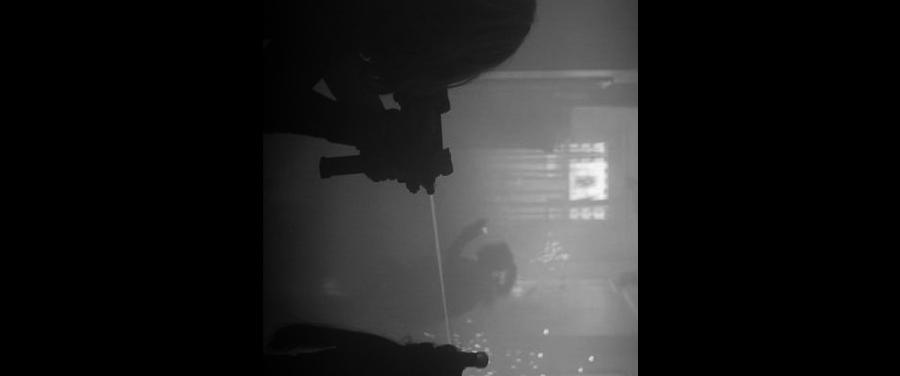gun: (311, 86, 455, 194)
